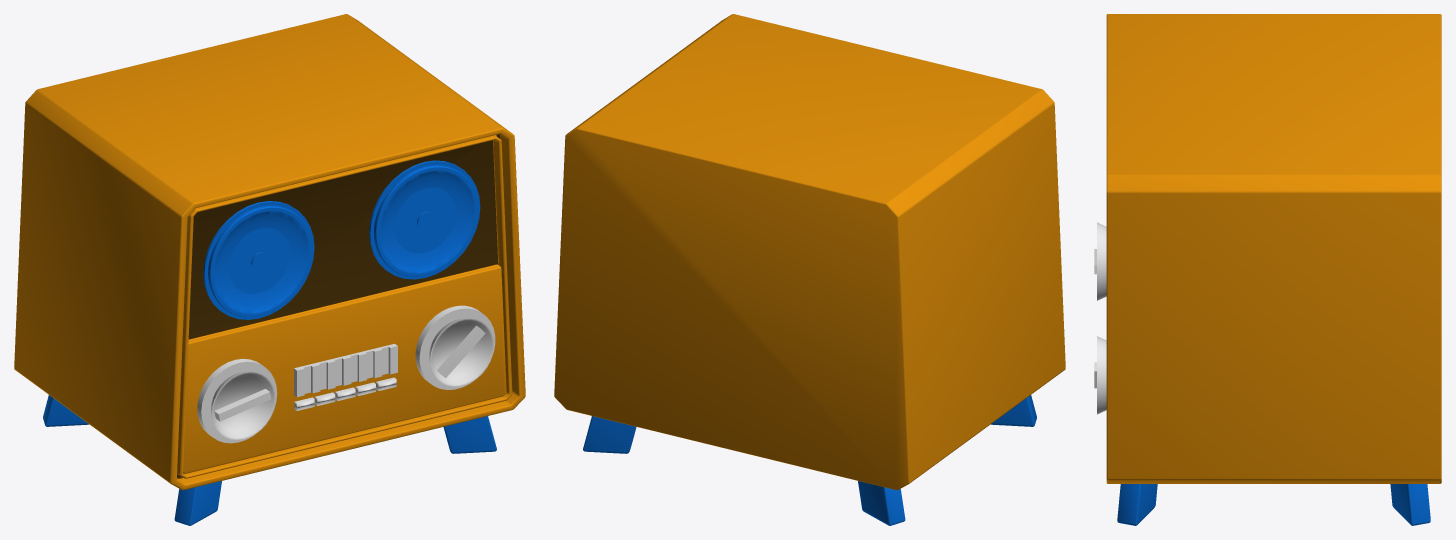
The model's file is radio4.fbx.
The picture shows the model from 3 angles, left to right: view 1: azimuth 30°, elevation 25°; view 2: azimuth 150°, elevation 25°; view 3: azimuth 270°, elevation 25°; orthographic projection. The views are drawn at different scales.
Parts seen in each view (by area): view 1: Cube, Cylinder, Cylinder.001, Cylinder.002, Cube.001, Cube.003, Cube.002; view 2: Cube, Cube.001; view 3: Cube, Cube.001, Cylinder.002, Cylinder.001.
Part boxes in pixels (x1,y1,x2,y2): Cube: [14, 14, 525, 490]; Cylinder: [203, 160, 480, 319]; Cylinder.001: [197, 358, 277, 443]; Cylinder.002: [415, 305, 495, 389]; Cube.001: [43, 395, 496, 525]; Cube.003: [294, 343, 397, 396]; Cube.002: [294, 377, 396, 410]; Cube: [554, 14, 1065, 490]; Cube.001: [583, 395, 1036, 525]; Cube: [1106, 14, 1441, 483]; Cube.001: [1117, 484, 1430, 525]; Cylinder.002: [1094, 336, 1106, 414]; Cylinder.001: [1094, 222, 1106, 300].
Size of the model in its own units: 262 by 230 by 207.
